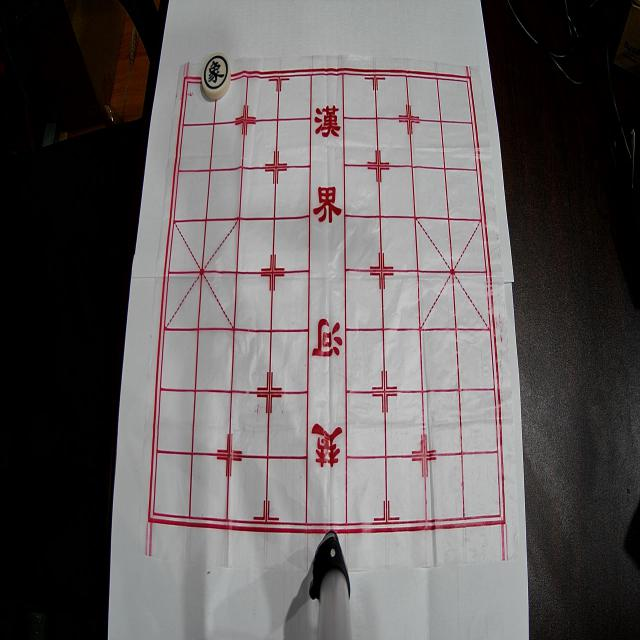black-elephant: (202, 52, 230, 100)
